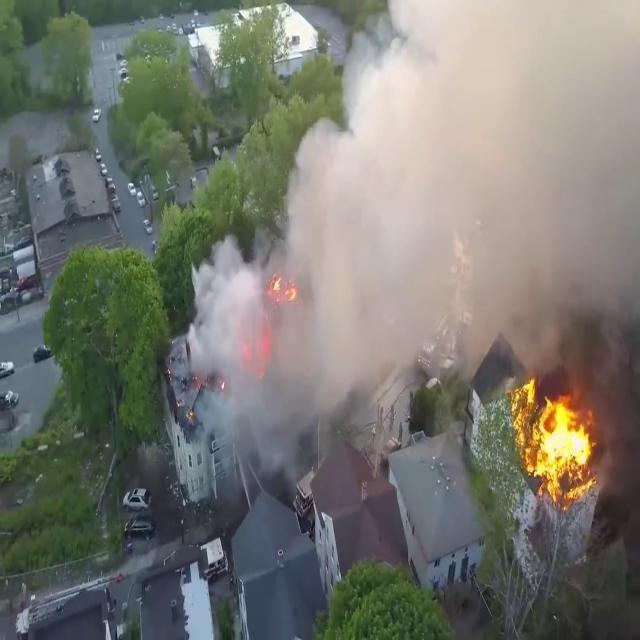Fire: (506, 362, 600, 502), (268, 268, 298, 304)
Smoke: (198, 0, 640, 472)
